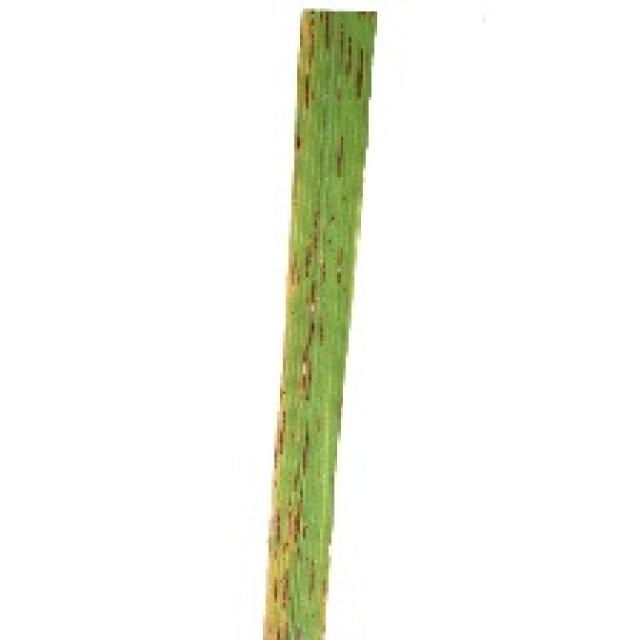Unhealthy: (263, 387, 311, 640), (299, 282, 317, 401), (303, 204, 323, 280), (297, 11, 315, 77), (335, 134, 347, 179), (345, 34, 355, 83), (320, 12, 332, 51), (287, 256, 299, 295), (306, 557, 315, 600), (357, 47, 364, 98), (337, 22, 345, 64), (335, 243, 343, 283), (303, 75, 310, 111), (319, 253, 327, 283), (295, 129, 303, 151)
